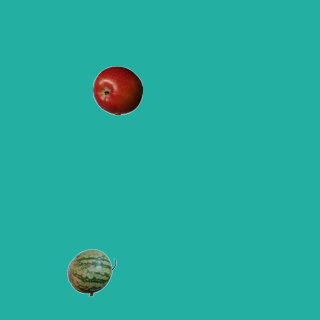Apple Braeburn: (92, 65, 142, 115)
Watermelon: (66, 247, 116, 297)
